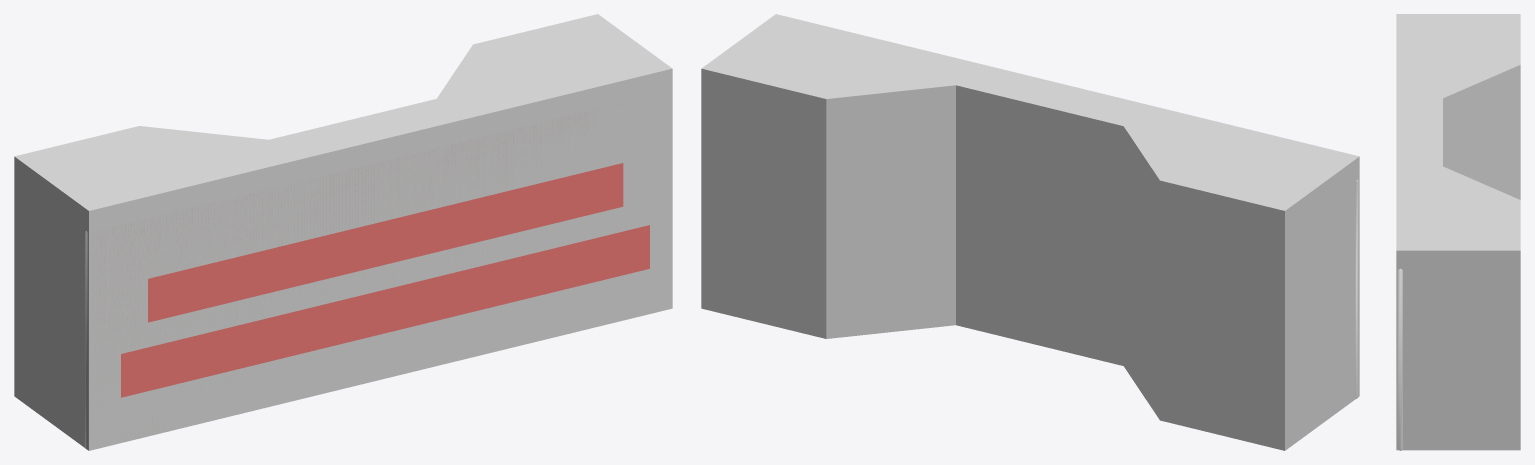
File: si_res_welcome_sign_door.dae
The picture shows the model from 3 angles, left to right: view 1: azimuth 30°, elevation 25°; view 2: azimuth 150°, elevation 25°; view 3: azimuth 270°, elevation 25°; orthographic projection. The views are drawn at different scales.
Visible parts, largest first — view 1: Colmesh-1, si_res_welcome_sign_door_a300, si_res_welcome_sign_door_a20, si_res_welcome_sign_door_a60; view 2: Colmesh-1, si_res_welcome_sign_door_a300; view 3: Colmesh-1, si_res_welcome_sign_door_a300.
Boxes of the visible parts, left/top/right/bottom form: Colmesh-1: left=14, top=14, right=672, bottom=450; si_res_welcome_sign_door_a300: left=85, top=93, right=671, bottom=450; si_res_welcome_sign_door_a20: left=89, top=100, right=649, bottom=450; si_res_welcome_sign_door_a60: left=89, top=100, right=640, bottom=450; Colmesh-1: left=701, top=14, right=1359, bottom=450; si_res_welcome_sign_door_a300: left=1355, top=180, right=1358, bottom=398; Colmesh-1: left=1396, top=14, right=1520, bottom=450; si_res_welcome_sign_door_a300: left=1397, top=269, right=1402, bottom=450.
Bounding box in the file's own units: 1.4 × 0.3299 × 0.5529.
